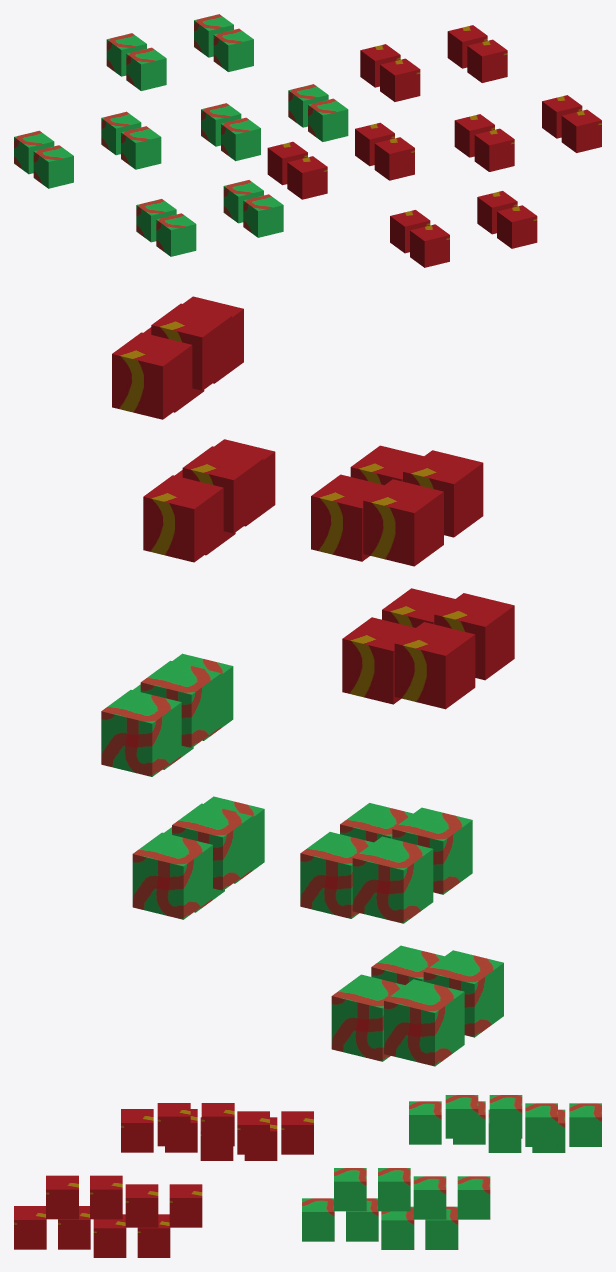
File: instancedCubes.obj
3 renders of one model, top to bottom at view 1: azimuth 30°, elevation 25°; view 2: azimuth 150°, elevation 25°; view 3: azimuth 270°, elevation 25°, orthographic. The views are drawn at different scales.
Parts seen in each view (by area): view 1: Cube.008, Cube.001; view 2: Cube.008, Cube.001; view 3: Cube.001, Cube.008.
Boxes of the visible parts, x1=… form: Cube.008: x1=14, y1=14, x2=348, y2=256; Cube.001: x1=267, y1=25, x2=601, y2=267; Cube.008: x1=101, y1=653, x2=503, y2=1066; Cube.001: x1=112, y1=296, x2=514, y2=709; Cube.001: x1=14, y1=1103, x2=313, y2=1257; Cube.008: x1=302, y1=1095, x2=601, y2=1249.
Size of the model in its own units: 27.8 by 16.69 by 35.92.
2 materials, 2 textured.
